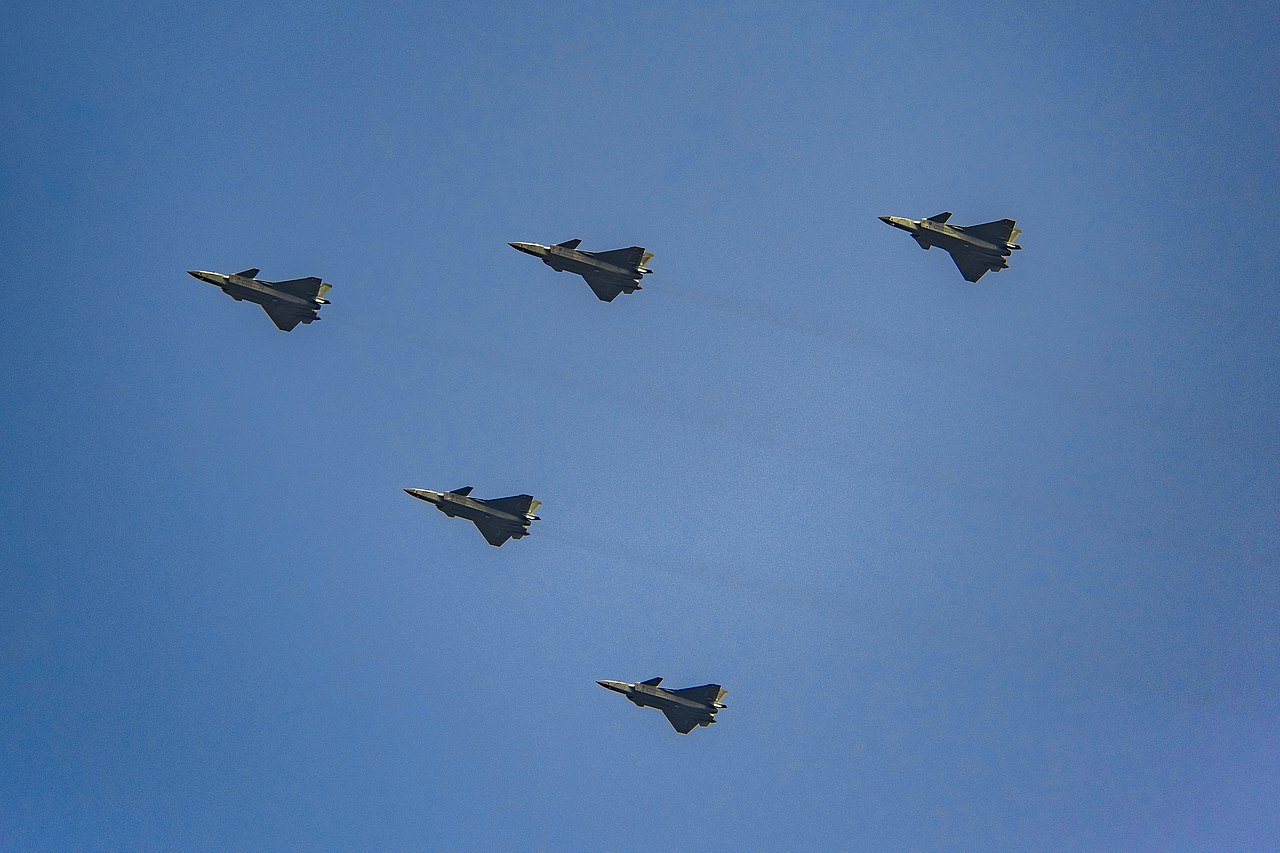J20: (876, 211, 1023, 284), (186, 267, 333, 332), (506, 238, 655, 302), (401, 485, 542, 548), (594, 676, 729, 735)
